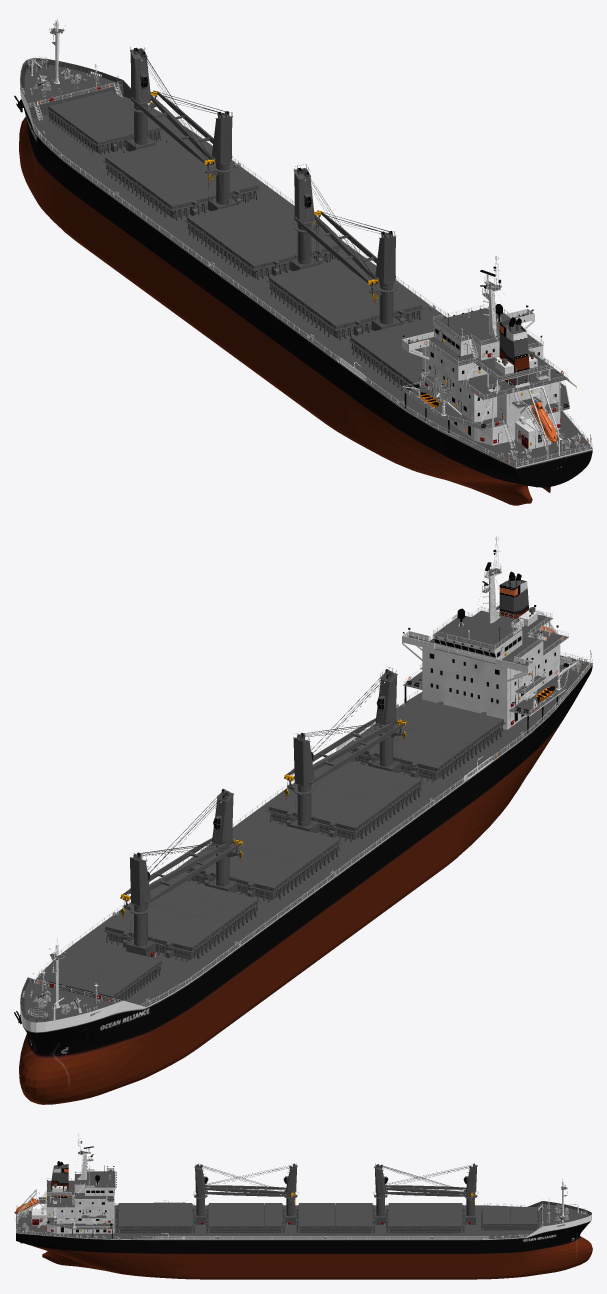
Rendered from bulker.glb.
The picture shows the model from 3 angles, top to bottom: view 1: azimuth 30°, elevation 25°; view 2: azimuth 150°, elevation 25°; view 3: azimuth 270°, elevation 25°; orthographic projection. The views are drawn at different scales.
Bounding box in the file's own units: 33.06 × 57.21 × 229.
1 material, 1 textured.
